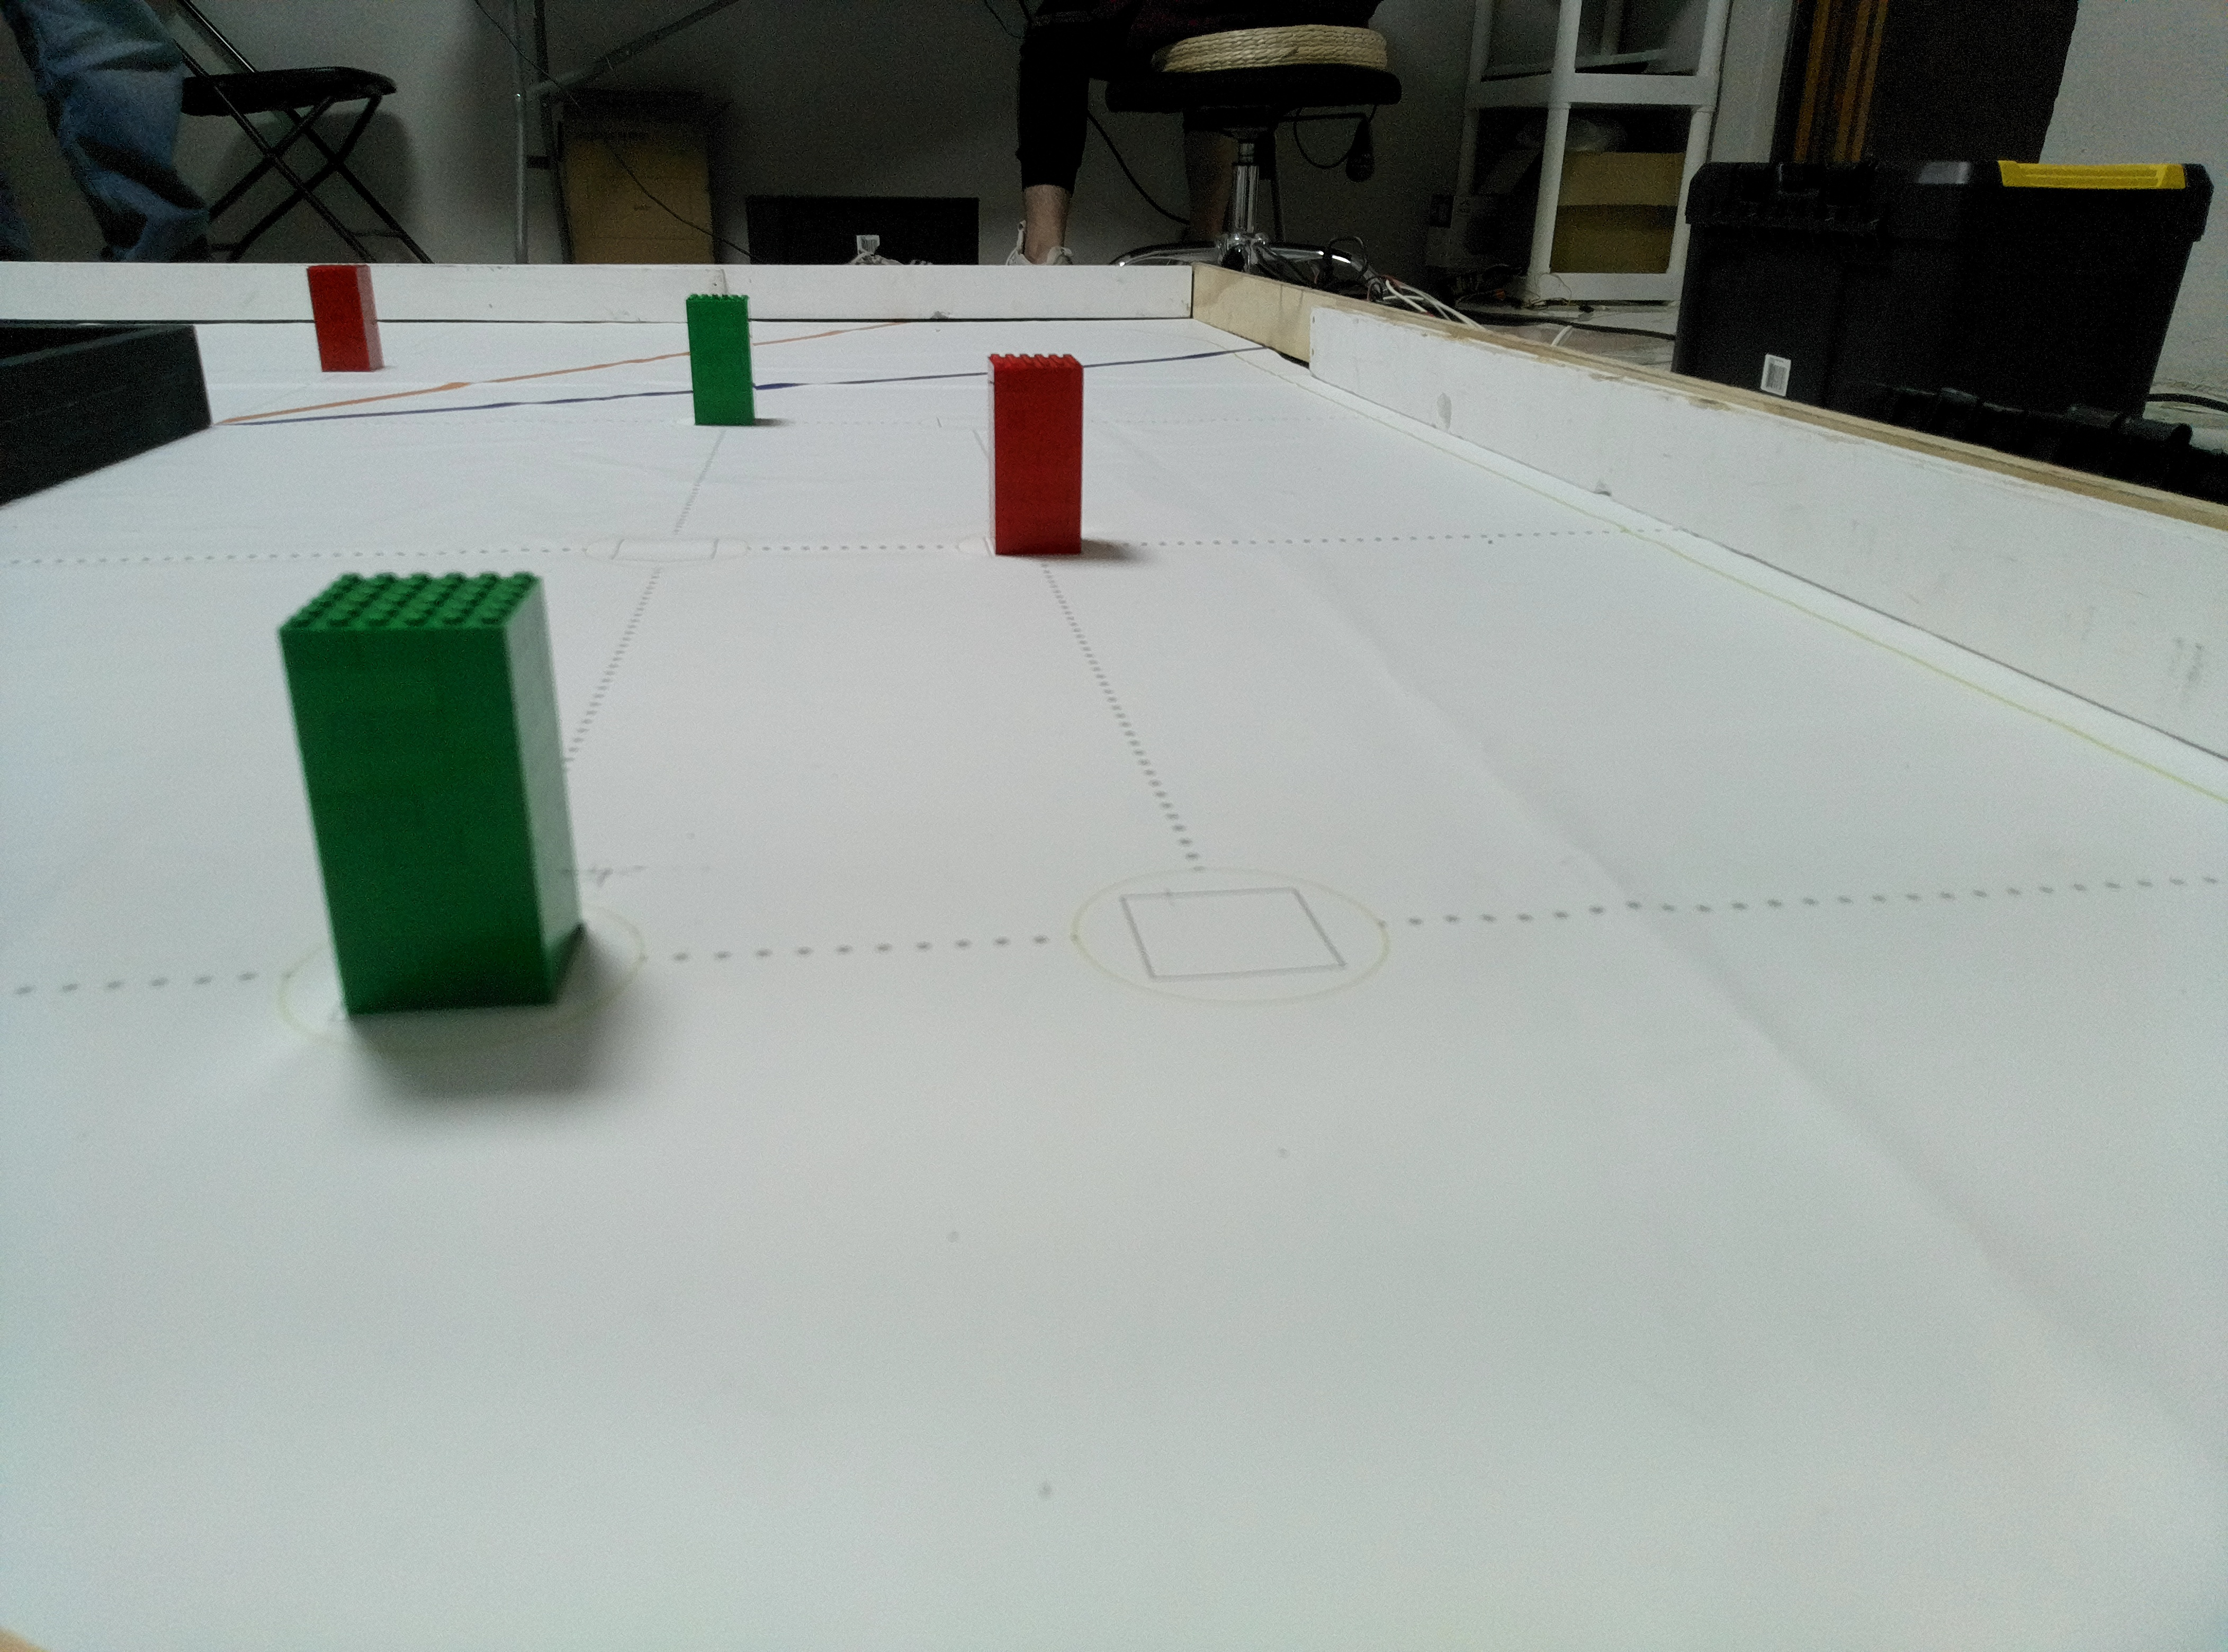greenbox: (278, 573, 583, 1032), (687, 297, 758, 432)
redbox: (984, 354, 1081, 560), (309, 265, 385, 370)
